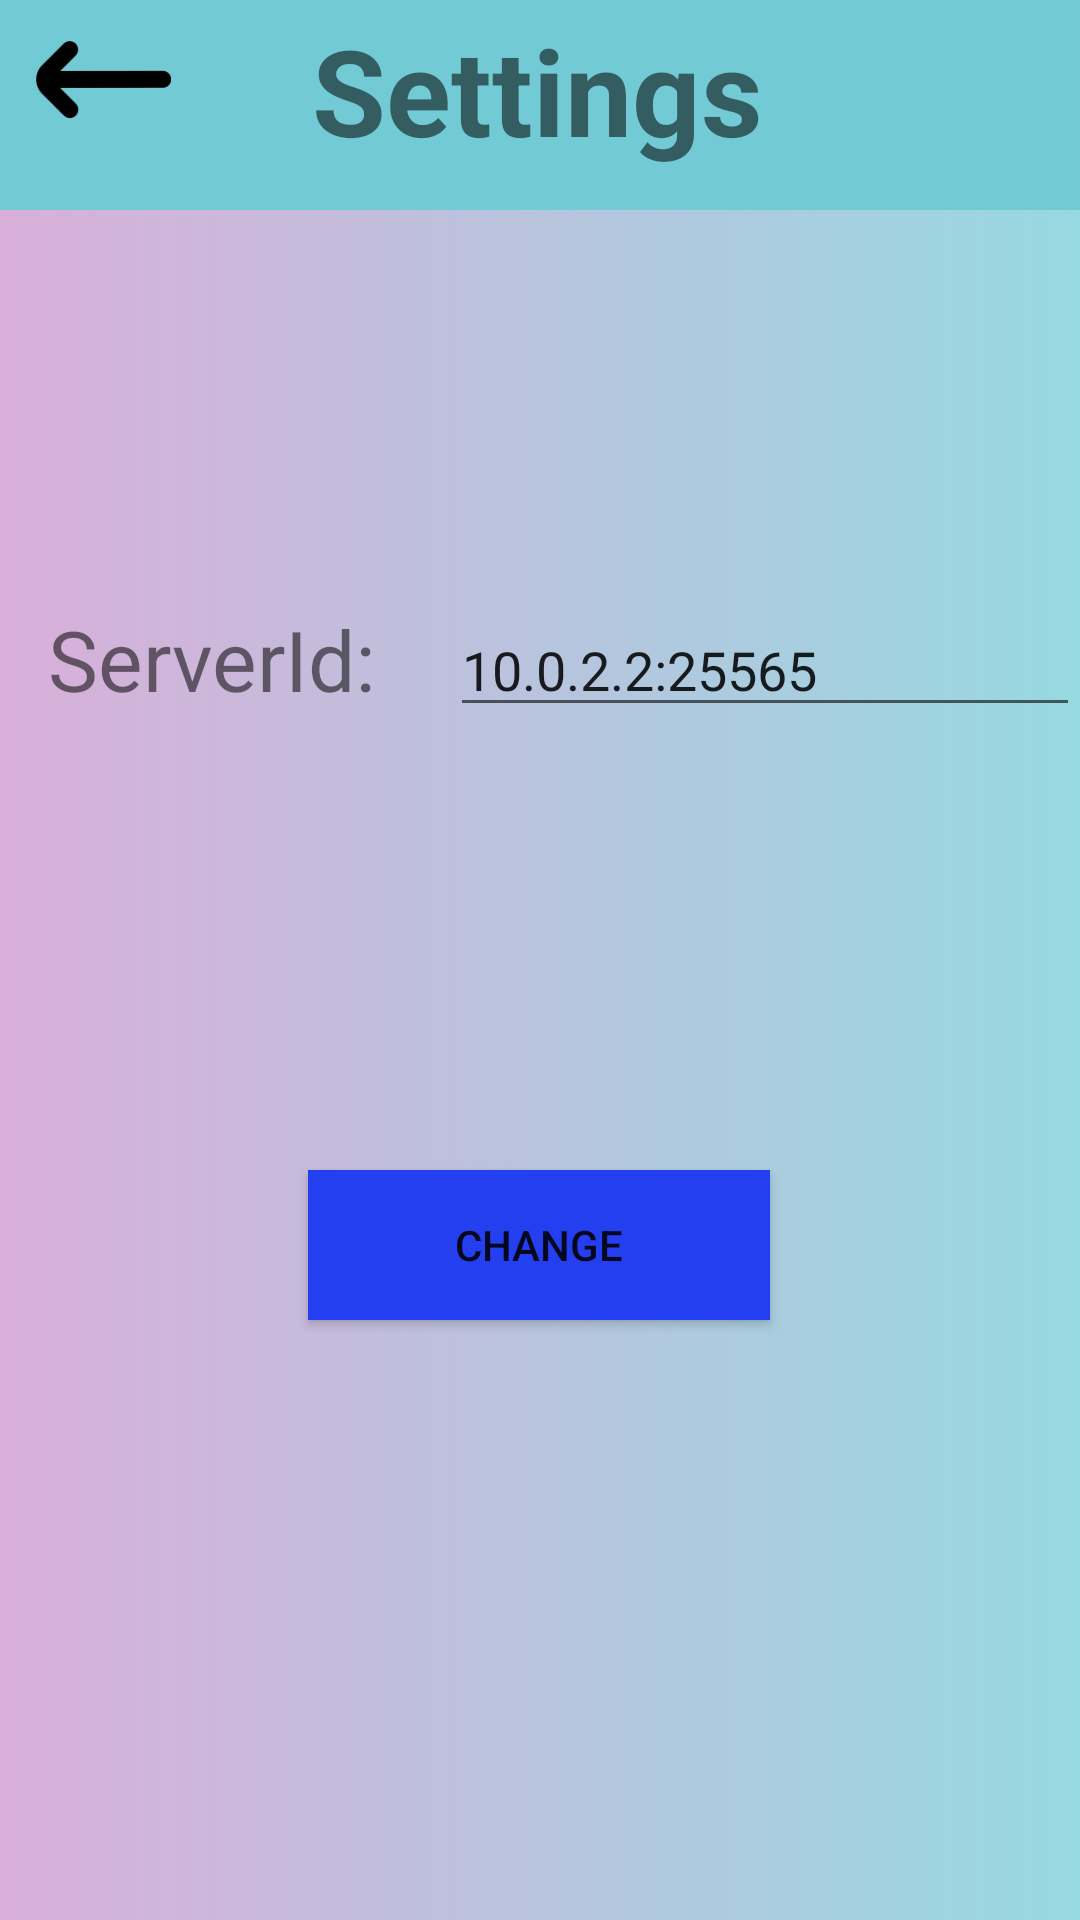

Icon bounding boxes for this 1080 × 1920 phone screenshot, format box(x1, y1, x2, y2):
arrowleft: box(36, 41, 171, 118)
